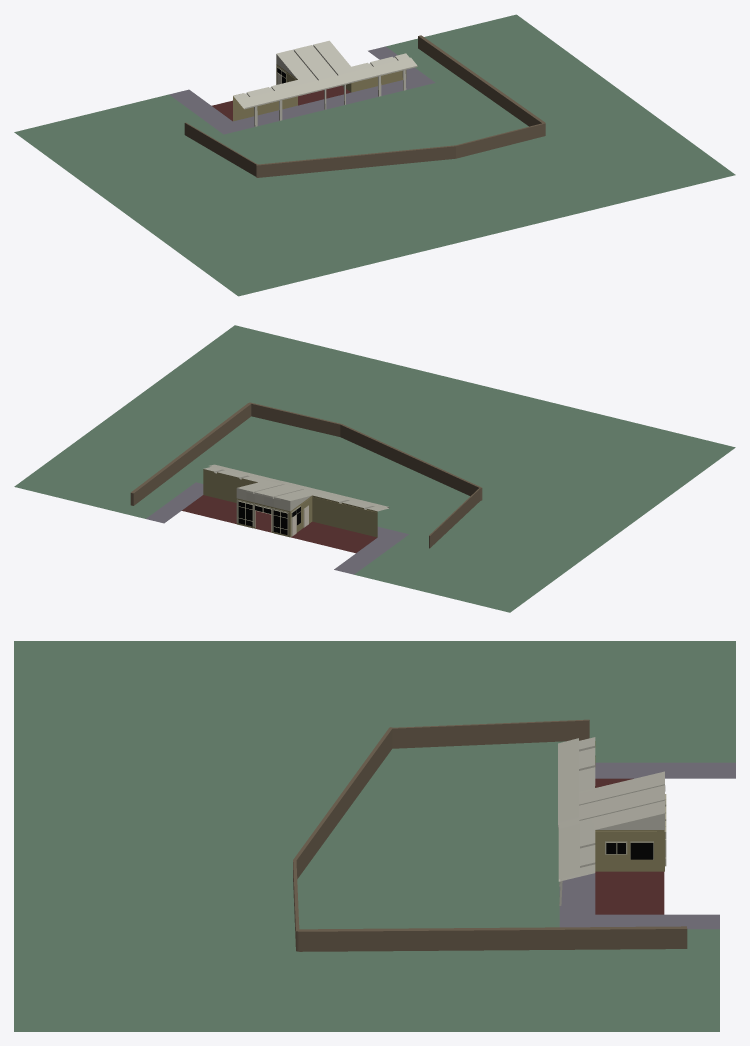
Rendered from WE01_Kinship_Outdoors_Scenery.fbx.
The picture shows the model from 3 angles, top to bottom: view 1: azimuth 30°, elevation 25°; view 2: azimuth 150°, elevation 25°; view 3: azimuth 270°, elevation 25°; orthographic projection. The views are drawn at different scales.
Parts seen in each view (by area): view 1: Ground, Fence1, BuildingEXT; view 2: Ground, BuildingEXT, Fence1; view 3: Ground, Fence1, BuildingEXT.
Boxes of the visible parts, x1=… form: Ground: x1=14, y1=14, x2=735, y2=296; Fence1: x1=184, y1=35, x2=545, y2=177; BuildingEXT: x1=233, y1=40, x2=417, y2=126; Ground: x1=14, y1=325, x2=735, y2=612; BuildingEXT: x1=203, y1=464, x2=389, y2=537; Fence1: x1=130, y1=402, x2=482, y2=548; Ground: x1=14, y1=641, x2=735, y2=1031; Fence1: x1=293, y1=719, x2=687, y2=951; BuildingEXT: x1=558, y1=737, x2=666, y2=905.
Size of the model in its own units: 40.21 by 2.84 by 31.4.
